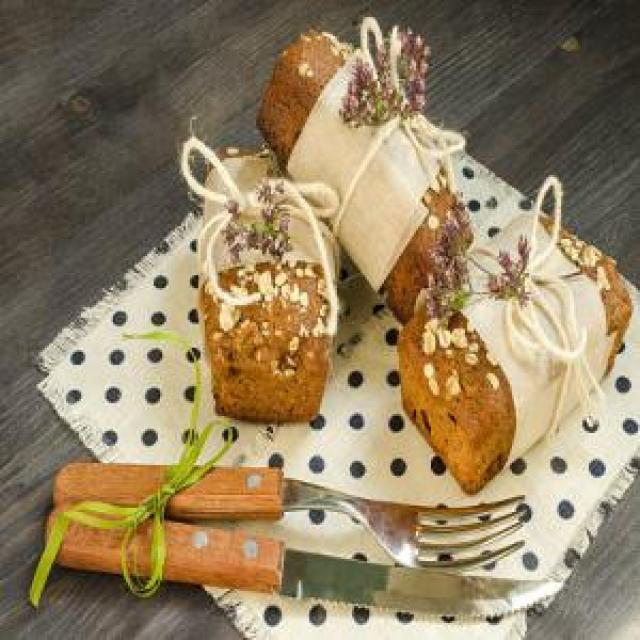knife: (38, 504, 566, 614)
